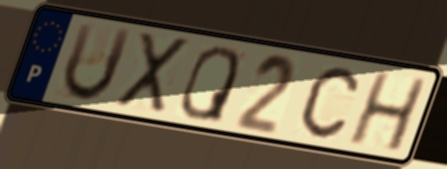2: (231, 52, 300, 138)
C: (298, 64, 361, 141)
H: (344, 70, 431, 156)
Q: (177, 44, 242, 126)
U: (59, 19, 136, 105)
X: (112, 29, 192, 116)
